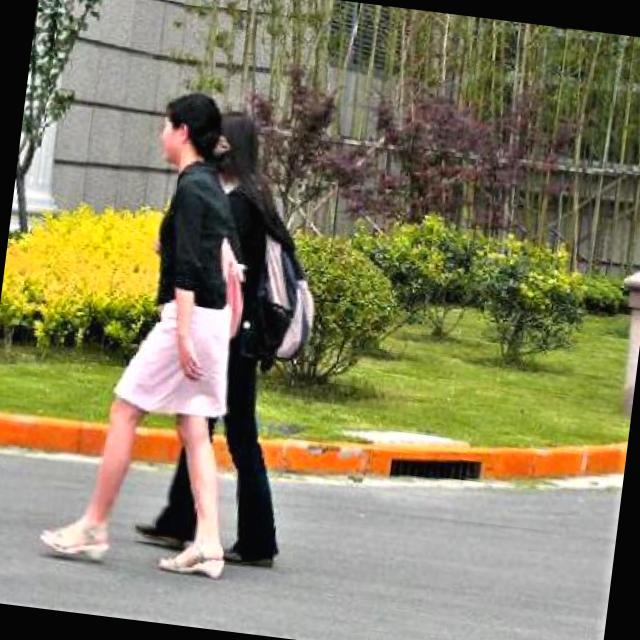Person: (26, 74, 283, 589), (158, 98, 329, 573)
